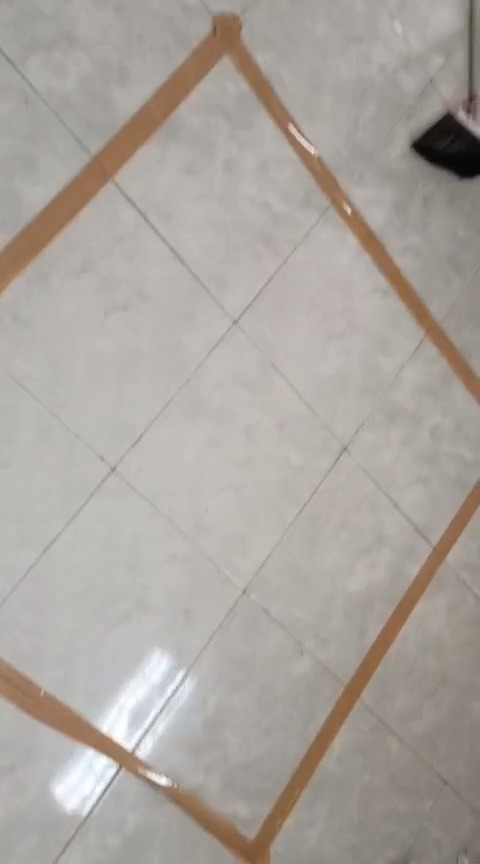floor marking: (0, 14, 479, 399), (0, 481, 478, 863)
